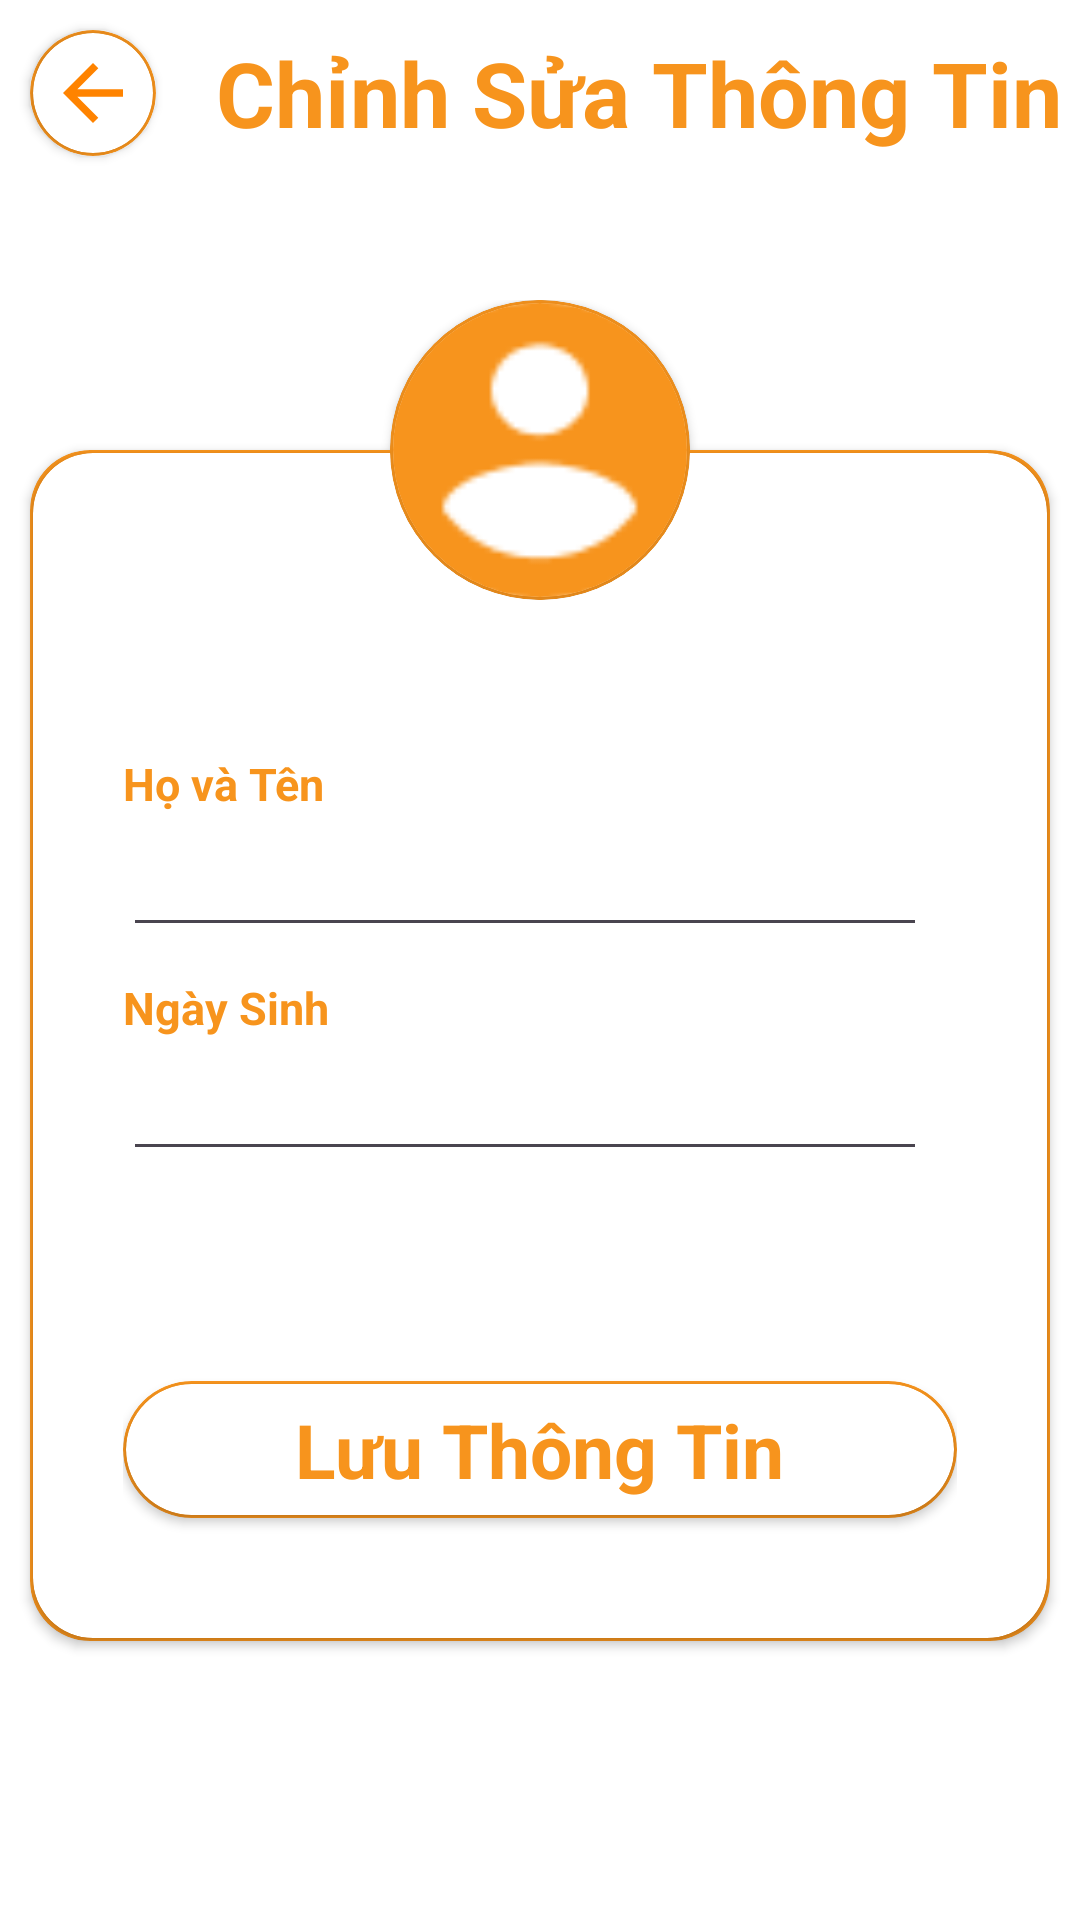

Named icons in this screenshot (1080w x 1920h) and their bounding boxes, region(x1, y1, x2, y2):
back: region(63, 63, 123, 123)
user: region(393, 303, 687, 597)
